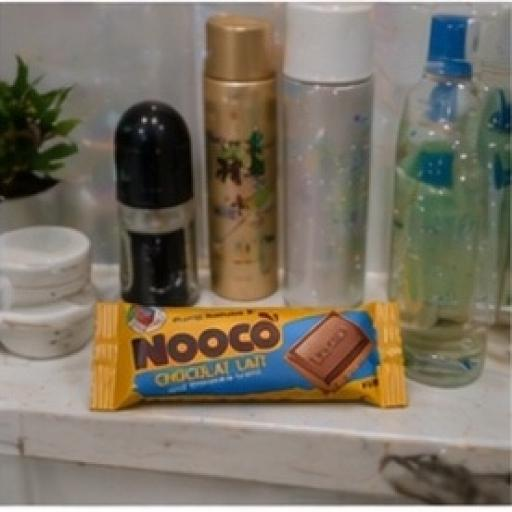biscuit-detection: (65, 272, 430, 457)
